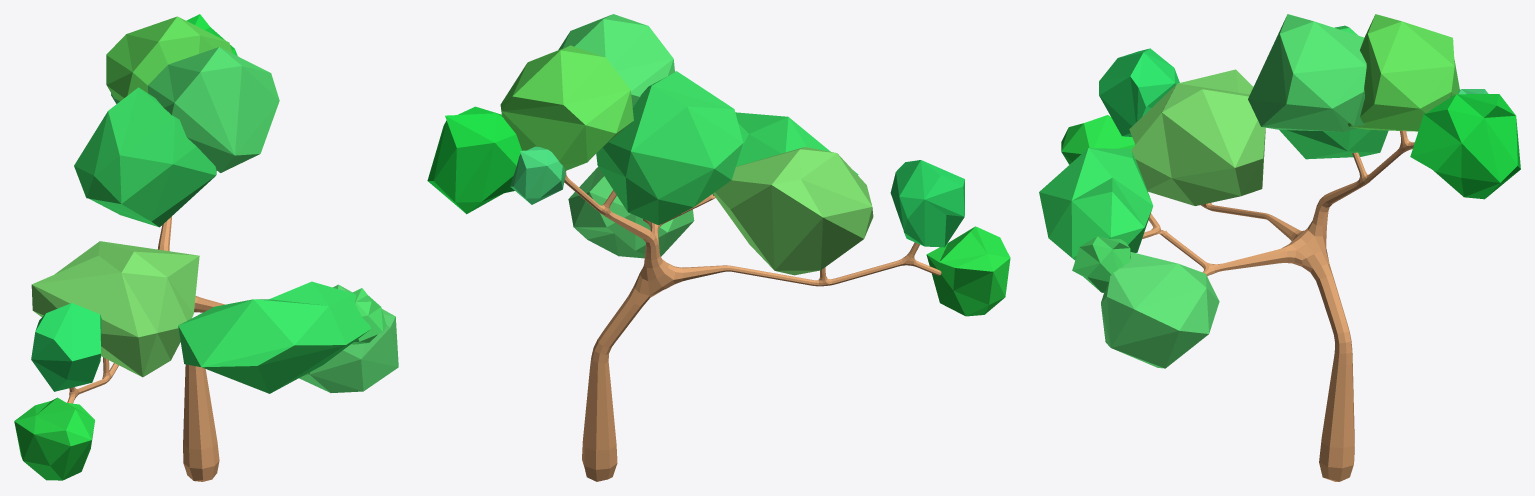
Rendered from low_poly_tree.glb.
3 renders of one model, left to right at view 1: azimuth 30°, elevation 25°; view 2: azimuth 150°, elevation 25°; view 3: azimuth 270°, elevation 25°, orthographic. The views are drawn at different scales.
Visible parts, largest first — view 1: Icosphere.018, Icosphere.013, Icosphere.012, Icosphere.020, Icosphere.015, Icosphere.011, Icosphere.021, Cube.001, Icosphere.014, Icosphere.017; view 2: Icosphere.012, Icosphere.018, Icosphere.015, Cube.001, Icosphere.016, Icosphere.011, Icosphere.021, Icosphere.020, Icosphere.014, Icosphere.013, Icosphere.019; view 3: Icosphere.018, Icosphere.020, Cube.001, Icosphere.014, Icosphere.015, Icosphere.013, Icosphere.016, Icosphere.021, Icosphere.012, Icosphere.017, Icosphere.011.
Boxes of the visible parts, box(x1,y1,x2,y2) form: Icosphere.018: box(31, 241, 199, 377); Icosphere.013: box(178, 281, 370, 393); Icosphere.012: box(74, 87, 216, 227); Icosphere.020: box(148, 47, 279, 172); Icosphere.015: box(106, 16, 232, 101); Icosphere.011: box(14, 397, 94, 480); Icosphere.021: box(31, 303, 101, 391); Cube.001: box(67, 216, 224, 481); Icosphere.014: box(299, 284, 398, 392); Icosphere.017: box(351, 288, 386, 344); Icosphere.012: box(596, 71, 743, 225); Icosphere.018: box(713, 147, 873, 275); Icosphere.015: box(500, 45, 633, 170); Cube.001: box(564, 171, 941, 481); Icosphere.016: box(427, 106, 521, 214); Icosphere.011: box(926, 226, 1010, 316); Icosphere.021: box(890, 160, 964, 247); Icosphere.020: box(558, 14, 674, 107); Icosphere.014: box(568, 167, 694, 258); Icosphere.013: box(735, 112, 858, 174); Icosphere.019: box(510, 146, 565, 204); Icosphere.018: box(1129, 69, 1265, 205); Icosphere.020: box(1248, 14, 1366, 131); Cube.001: box(1142, 130, 1414, 481); Icosphere.014: box(1101, 252, 1219, 368); Icosphere.015: box(1348, 14, 1459, 131); Icosphere.013: box(1039, 148, 1153, 260); Icosphere.016: box(1410, 94, 1520, 199); Icosphere.021: box(1099, 48, 1179, 136); Icosphere.012: box(1279, 25, 1388, 159); Icosphere.017: box(1072, 236, 1130, 292); Icosphere.011: box(1061, 115, 1135, 164).
Size of the model in its own units: 8.42 by 9.05 by 8.52.
